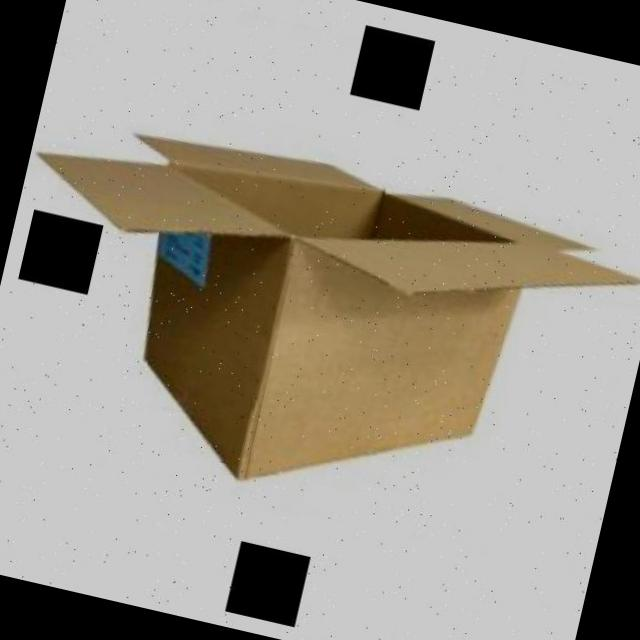box: (0, 40, 640, 597)
